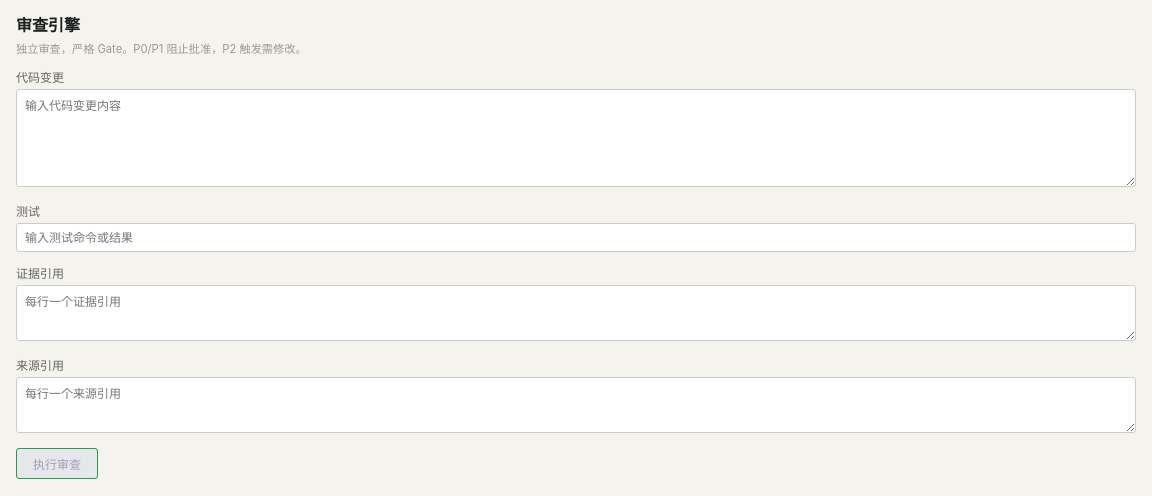
Test: ReviewerPanel › reviews code with P0 finding and shows blocked verdict
Type "code" into the text box with placeholder "输入代码变更内容" at (576, 138), box [16,89,1136,187]
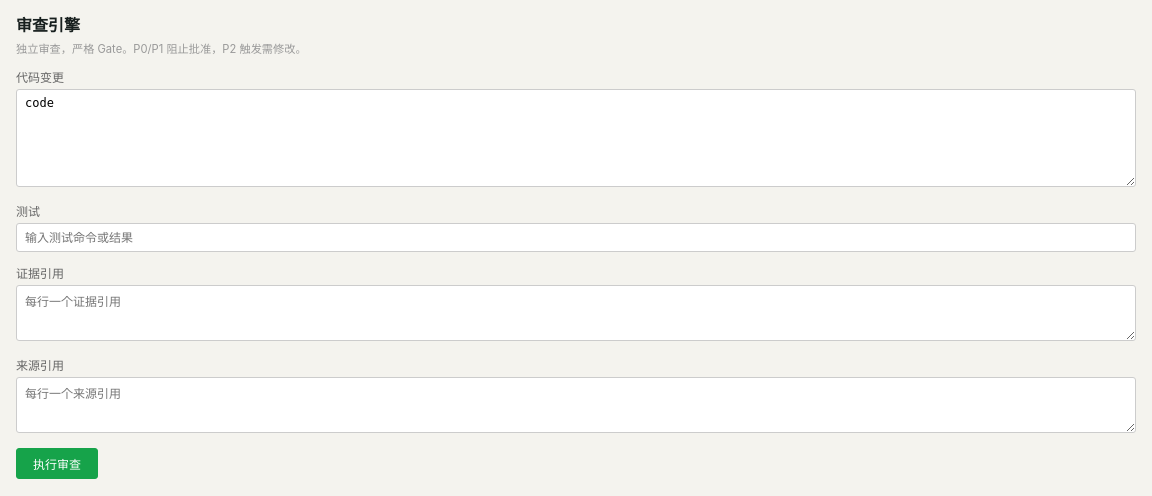
Click the button "执行审查" at (57, 464), box [16,448,98,479]
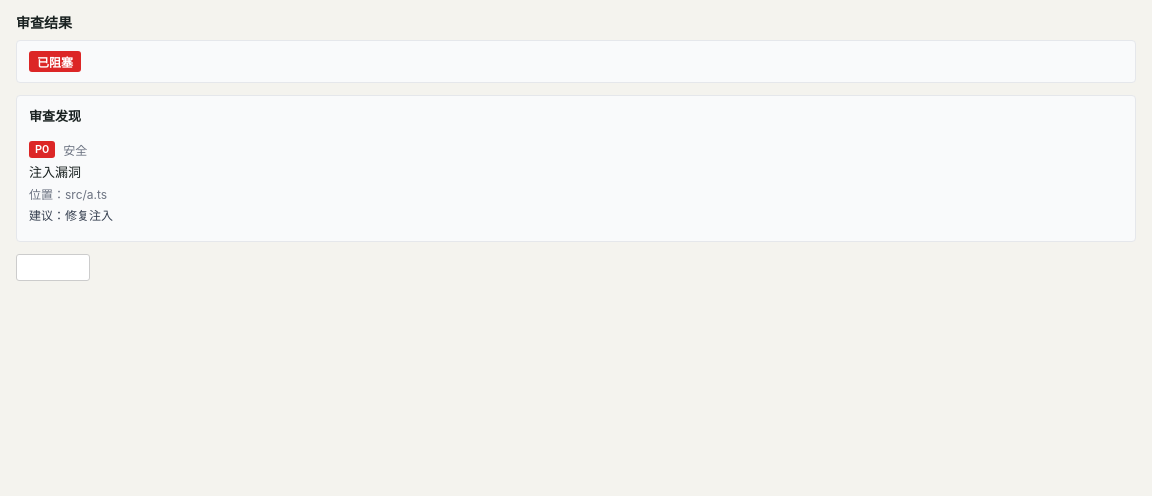
Expected: the heading "审查结果" is shown, [16,14,72,31]
Expected: the text "已阻塞" is shown, [29,51,81,72]
Expected: the text "注入漏洞" is shown, [29,164,81,180]
